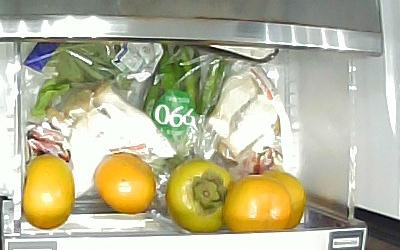persimmon: (166, 160, 233, 234), (93, 152, 155, 216), (224, 175, 292, 232), (24, 153, 74, 230), (260, 170, 306, 230)
